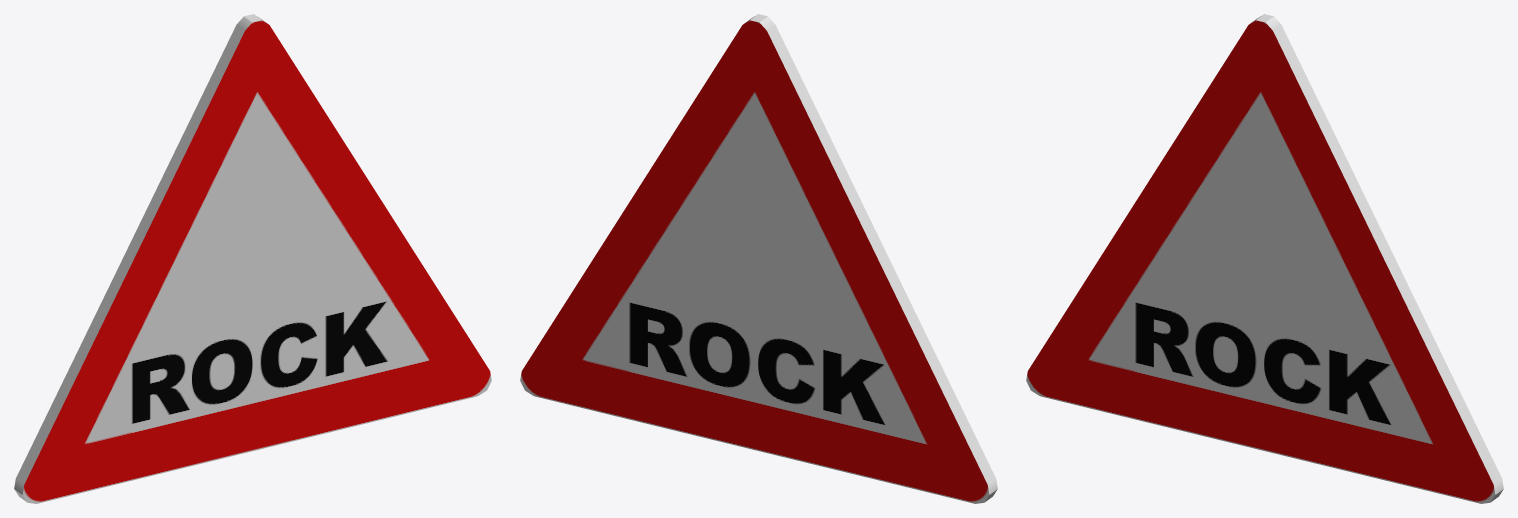
Rendered from no_rock.fbx.
3 views of the same model, side by side, from view 1: azimuth 30°, elevation 25°; view 2: azimuth 150°, elevation 25°; view 3: azimuth 330°, elevation 25° (orthographic).
Visible parts, largest first — view 1: pCube1; view 2: pCube1; view 3: pCube1.
Part boxes in pixels (x1,y1,x2,y2): pCube1: (14, 14, 491, 503); pCube1: (520, 14, 997, 503); pCube1: (1026, 14, 1503, 503).
Size of the model in its own units: 0.9569 by 0.8354 by 0.03.
Materials: 1 (1 with a texture image).
